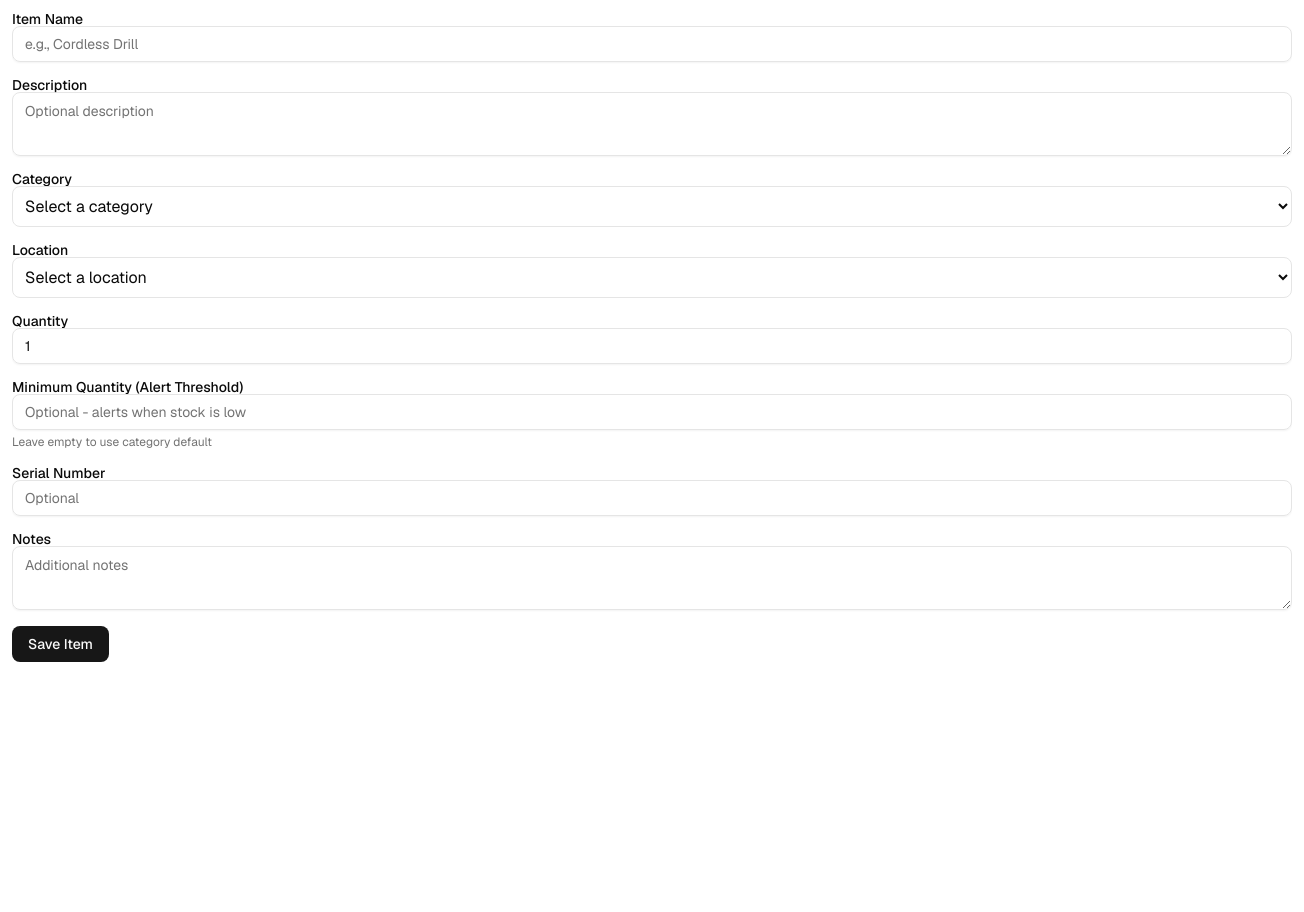
Test case: ItemForm - Location Dropdown › Selection Tests › should clear validation error when location is selected
The width and height of the screenshot is (1304, 912).
Type "Test Item" into the field labelled "Item Name" at (652, 44), box [12,26,1292,62]
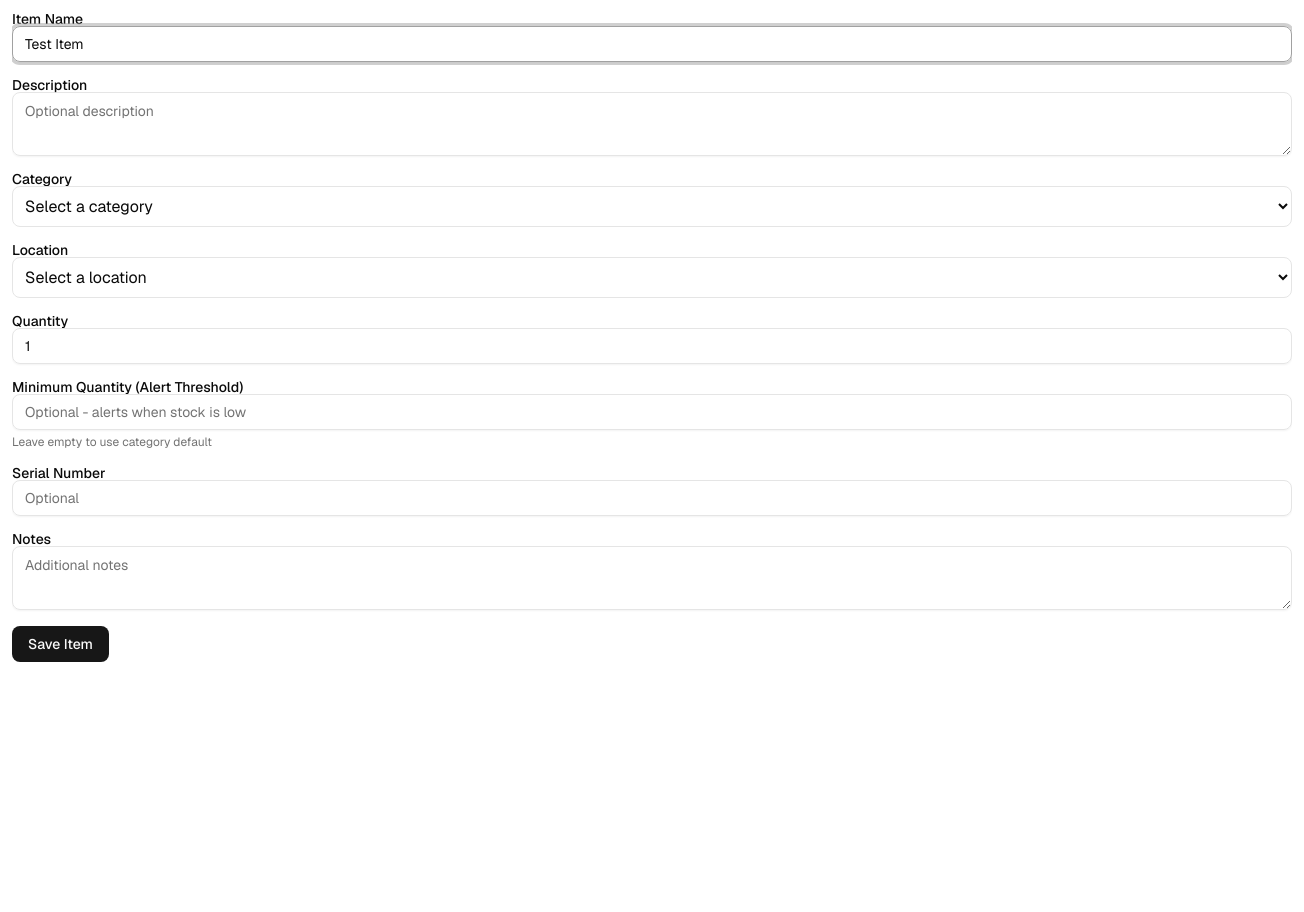
Select "Tools" in the 1st dropdown at (652, 206), box [12,186,1292,227]
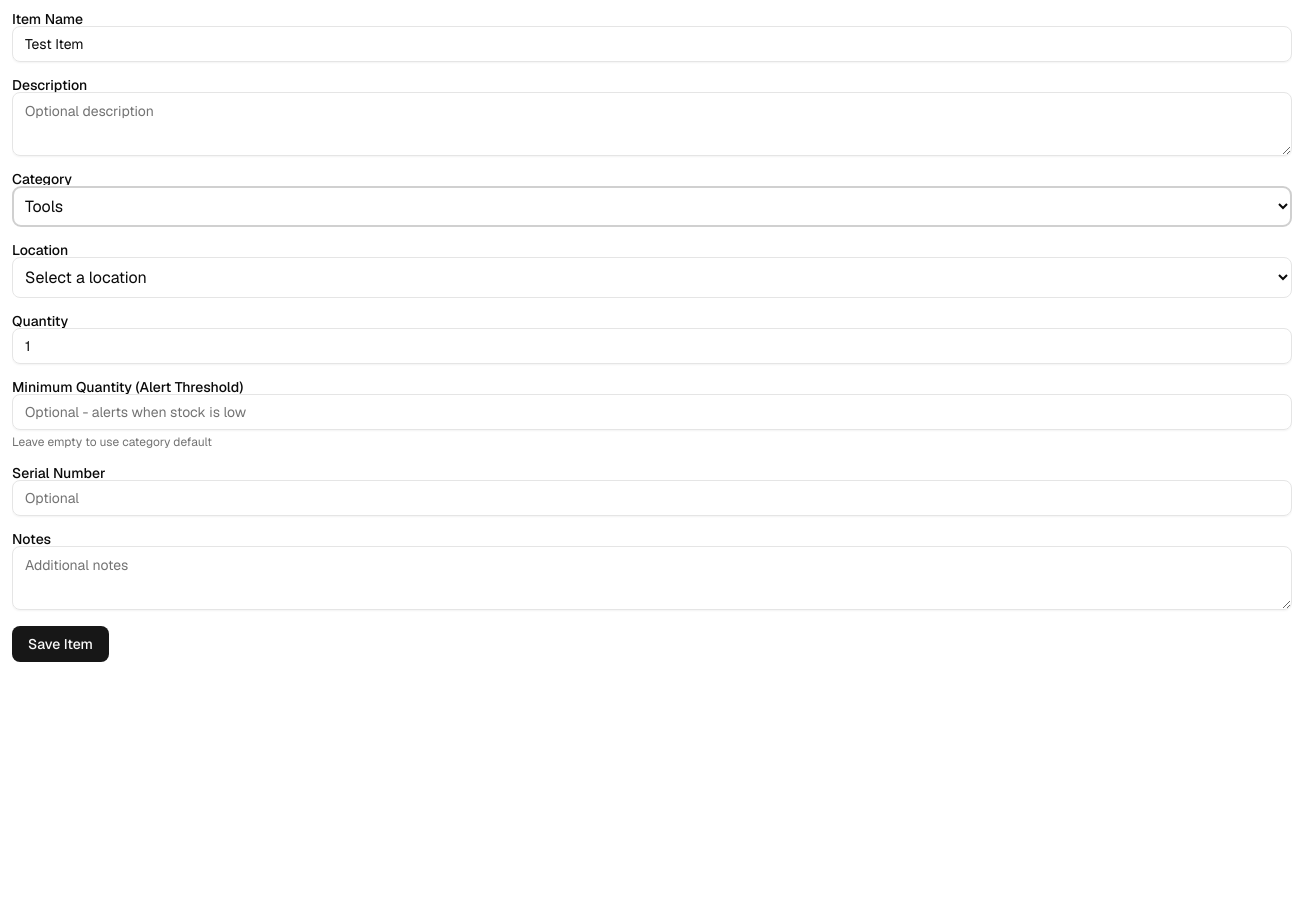
Click the button "Save Item" at (60, 644), box [12,626,109,662]
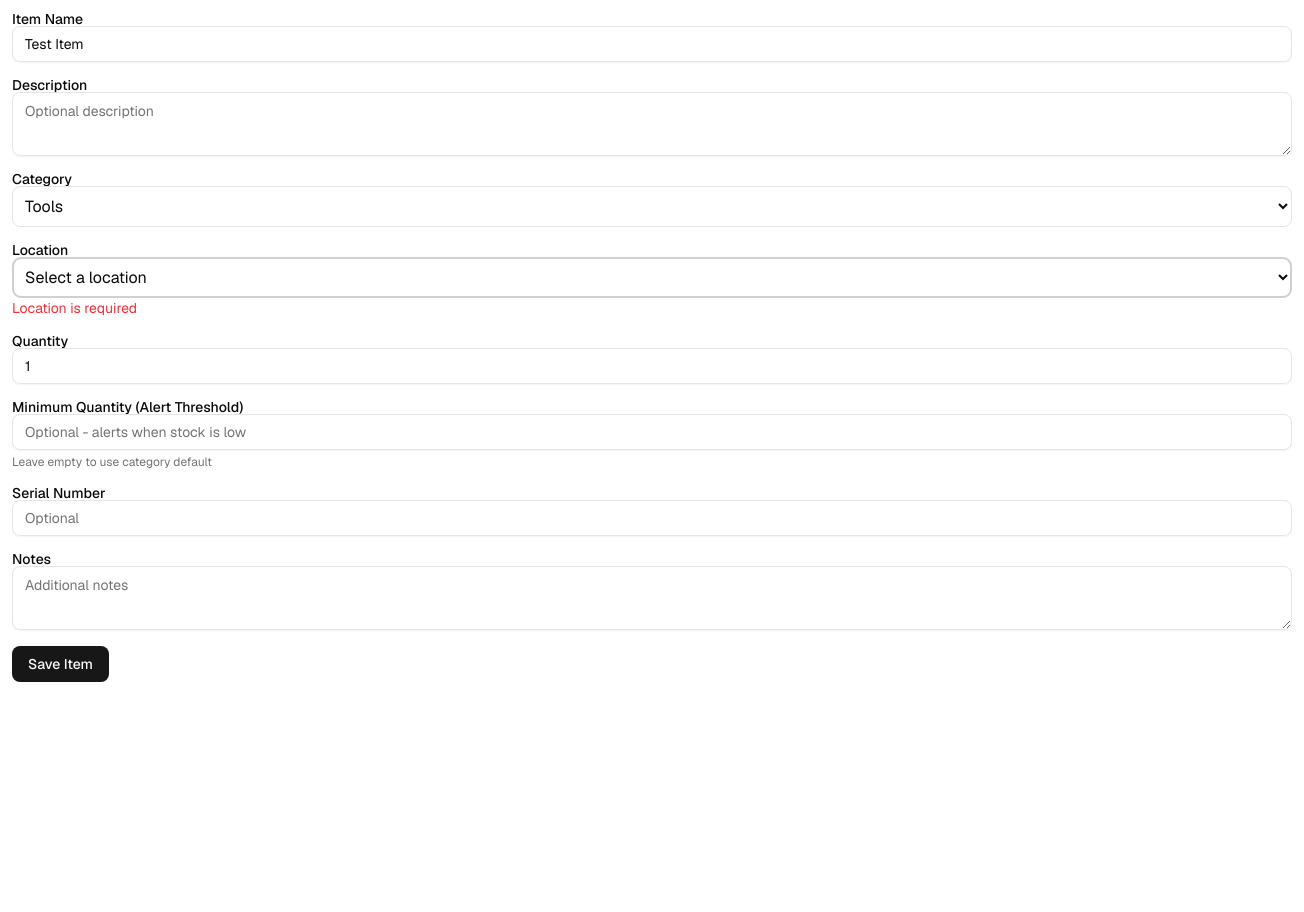
Check: the text "Location is required" is shown, box [12,299,137,317]
Select "Garage" in the 2nd dropdown at (652, 278), box [12,257,1292,298]
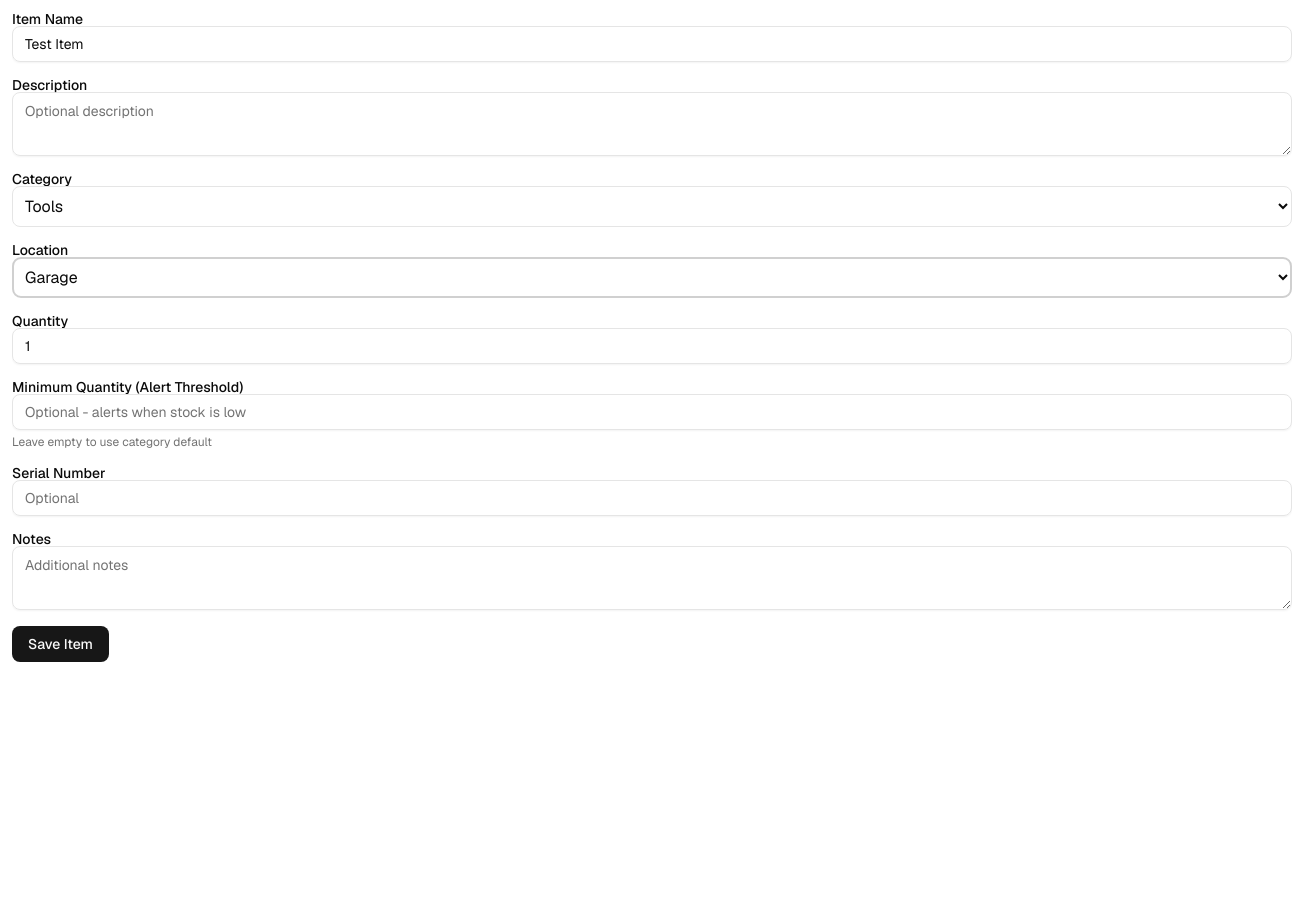
Check: the text "Location is required" is gone
